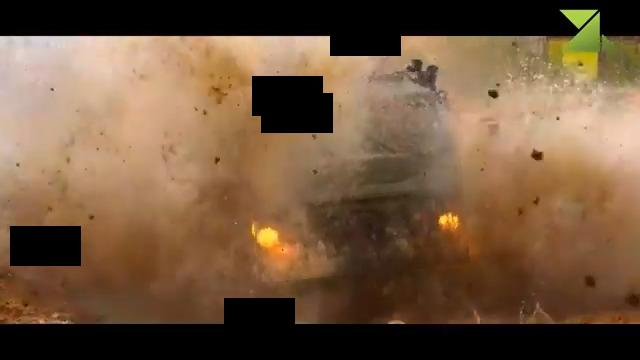MIL_HMMWV: (246, 73, 466, 278)
